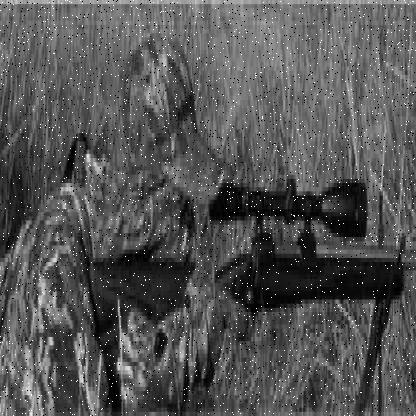rifle: (81, 125, 414, 412)
